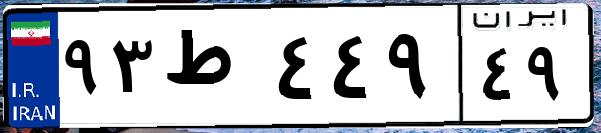3: (110, 28, 158, 98)
4: (270, 28, 330, 110), (330, 28, 385, 110), (475, 38, 525, 113)
9: (385, 28, 445, 110), (57, 26, 110, 100), (525, 38, 570, 115)
ط: (158, 20, 270, 120)
